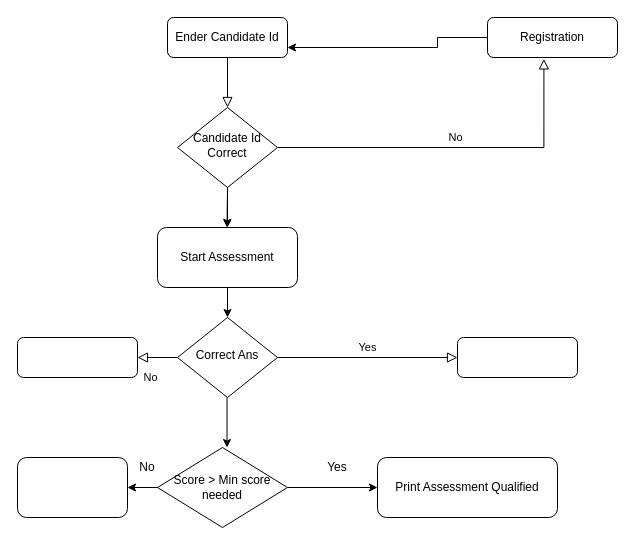
Some shapes in this 635 by 545 pixel diagram are drawn without their labels. The shapes that lost their labels are listed below. From the top down, each one's centre as x and y in pixels, then its label:
At pixel 77 357: "Decrement Score by 1".
At pixel 517 357: "Increment Score by 4".
At pixel 72 487: "Print Assessment not Qualified".
